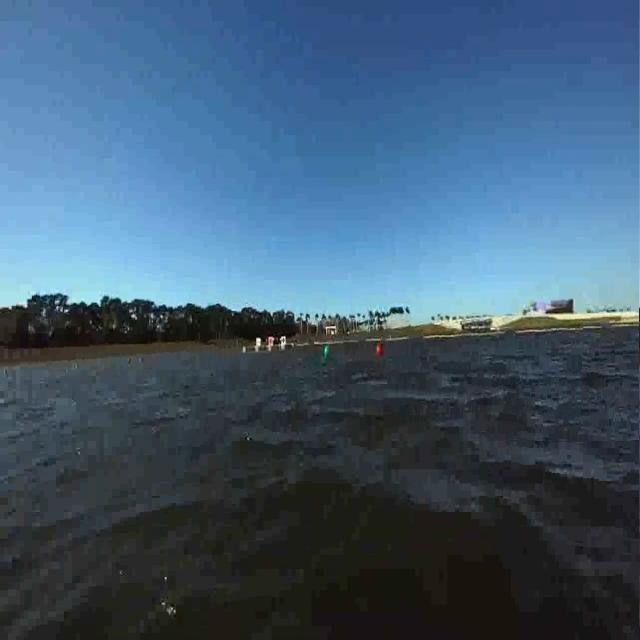green-buoy: (323, 344, 332, 361)
red-buoy: (377, 345, 384, 355)
